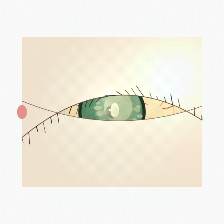corneal_ulcer: (94, 88, 143, 127)
